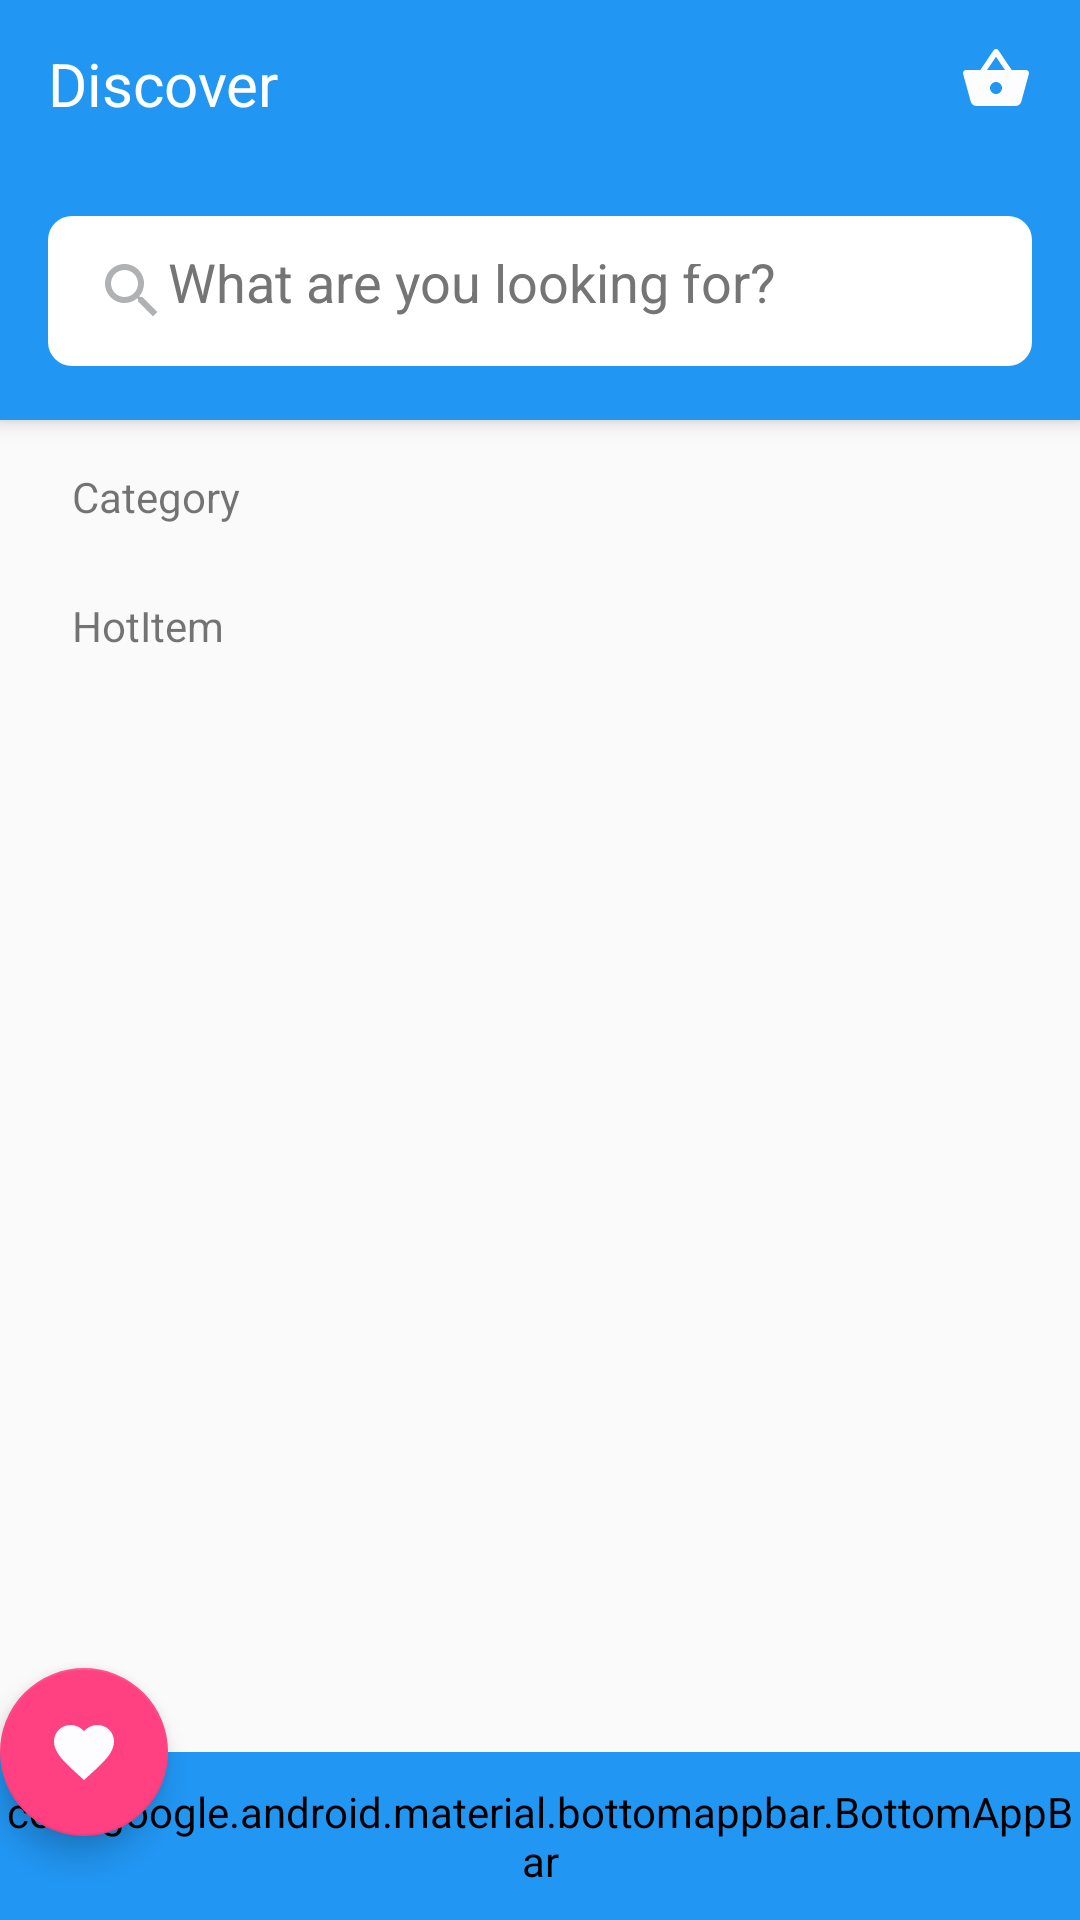

Icons on this 1080px×1920px Android screen, each with the point to tap as [x,y]:
favorite: [84,1752]
shopping basket: [996,77]
